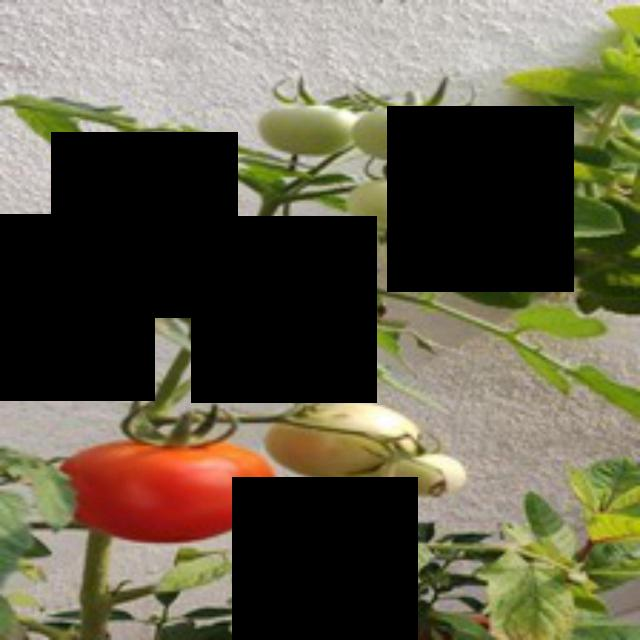tomato: (48, 422, 279, 550)
